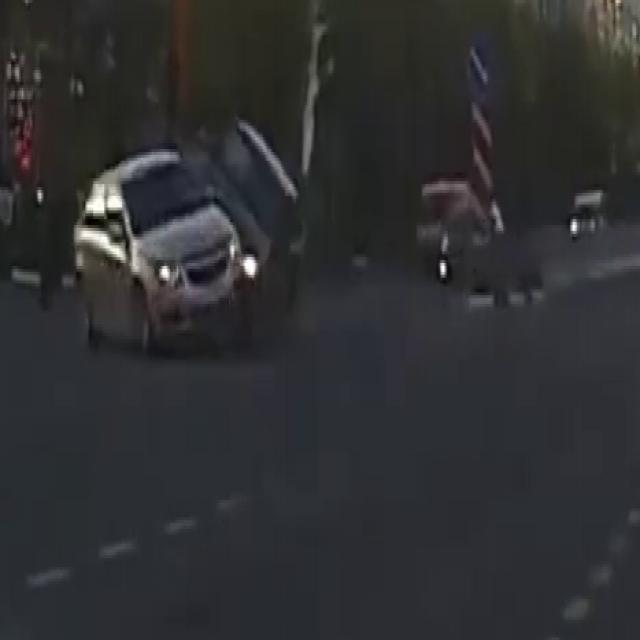accident: (84, 111, 317, 354)
